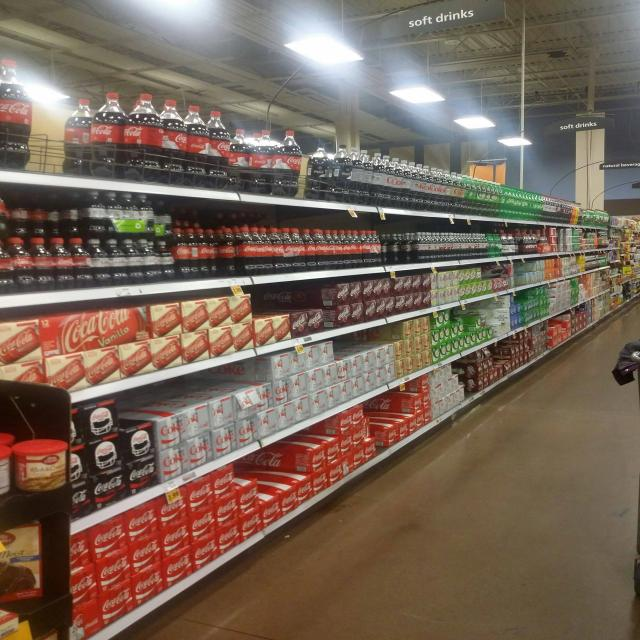empty_space: (0, 0, 40, 23), (0, 0, 11, 73), (0, 0, 12, 59), (0, 0, 11, 58), (0, 0, 19, 31), (0, 0, 11, 53), (0, 0, 10, 57), (0, 0, 10, 49), (0, 0, 11, 43), (0, 0, 8, 56), (0, 0, 17, 23), (0, 0, 9, 41), (0, 0, 13, 28), (0, 0, 16, 22), (0, 0, 9, 39), (0, 0, 15, 23), (0, 0, 14, 24), (0, 0, 8, 40), (0, 0, 12, 26), (0, 0, 12, 25), (0, 0, 13, 23), (0, 0, 13, 21), (0, 0, 8, 34), (0, 0, 12, 22), (0, 0, 11, 23), (0, 0, 12, 21), (0, 0, 12, 20), (0, 0, 7, 34), (0, 0, 9, 26), (0, 0, 11, 21), (0, 0, 10, 23), (0, 0, 8, 28), (0, 0, 10, 22), (0, 0, 11, 20), (0, 0, 12, 18), (0, 0, 10, 21), (0, 0, 11, 19), (0, 0, 9, 23), (0, 0, 6, 34), (0, 0, 10, 20), (0, 0, 11, 18), (0, 0, 6, 33), (0, 0, 6, 32), (0, 0, 8, 24), (0, 0, 9, 21), (0, 0, 7, 27), (0, 0, 7, 26), (0, 0, 9, 20), (0, 0, 6, 30), (0, 0, 10, 18), (0, 0, 8, 22), (0, 0, 5, 35), (0, 0, 10, 17), (0, 0, 5, 34), (0, 0, 5, 33), (0, 0, 9, 18), (0, 0, 8, 20), (0, 0, 5, 31), (0, 0, 9, 17), (0, 0, 8, 19), (0, 0, 5, 30), (0, 0, 5, 29), (0, 0, 8, 18), (0, 0, 9, 16), (0, 0, 10, 14), (0, 0, 7, 20), (0, 0, 4, 34), (0, 0, 8, 17), (0, 0, 7, 19), (0, 0, 5, 26), (0, 0, 6, 20), (0, 0, 6, 19), (0, 0, 7, 16), (0, 0, 8, 14), (0, 0, 7, 15), (0, 0, 7, 14), (0, 0, 6, 16), (0, 0, 5, 19), (0, 0, 5, 17), (0, 0, 6, 14), (0, 0, 5, 16), (0, 0, 6, 13), (0, 0, 5, 14), (0, 0, 4, 17), (0, 0, 2, 33), (0, 0, 5, 13), (0, 0, 4, 16), (0, 0, 4, 14), (0, 0, 5, 11), (0, 0, 5, 10), (0, 0, 4, 12), (0, 0, 3, 16), (0, 0, 4, 10), (0, 0, 3, 13)
